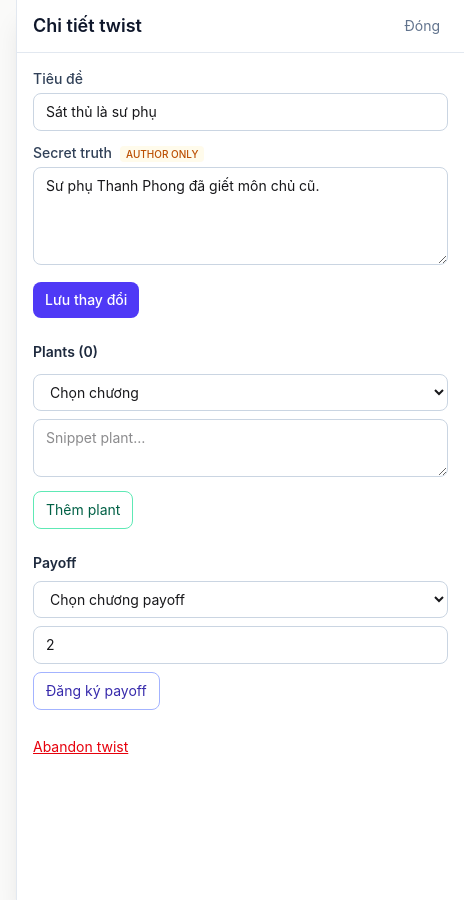
Test: TwistBoardPage › drawer can add plant to twist
This screenshot has width=464, height=900.
Expected: the field showing "Sát thủ là sư phụ" is shown, x1=33 y1=93 x2=448 y2=131
Select "Ch.2 — Chương 2" in the dropdown named "Chọn chương": point(240, 392) x1=33 y1=374 x2=448 y2=411
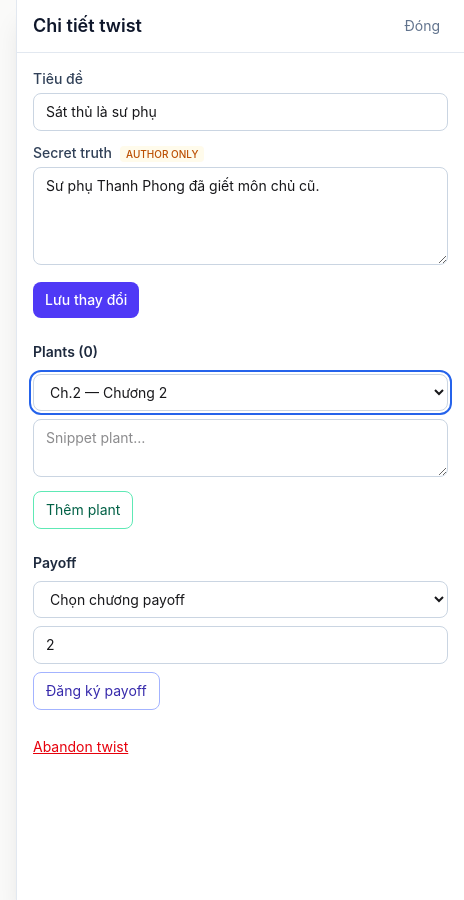
In the text box with placeholder "Snippet plant…": point(240, 448) x1=33 y1=419 x2=448 y2=477, type "Plant mới trong drawer"
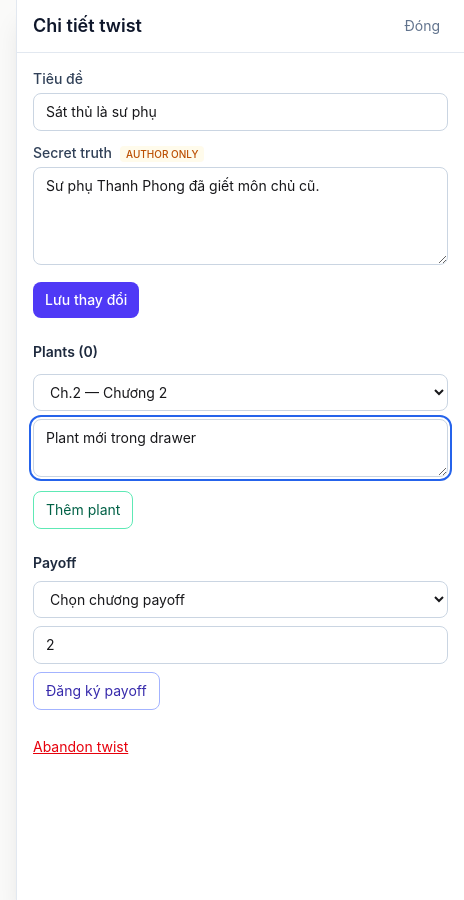
Click the button "Thêm plant": point(83, 510) x1=33 y1=491 x2=133 y2=529
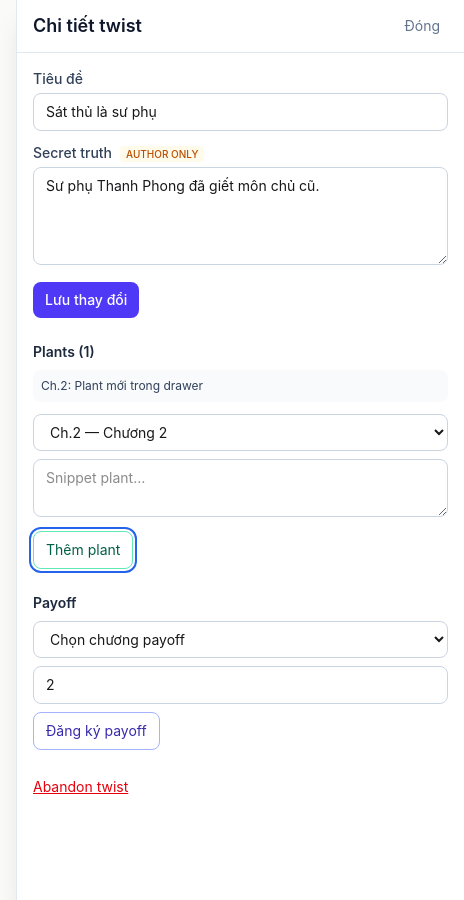
Now the list item "Ch.2: Plant mới trong drawer" is shown, box x1=33 y1=370 x2=448 y2=402
